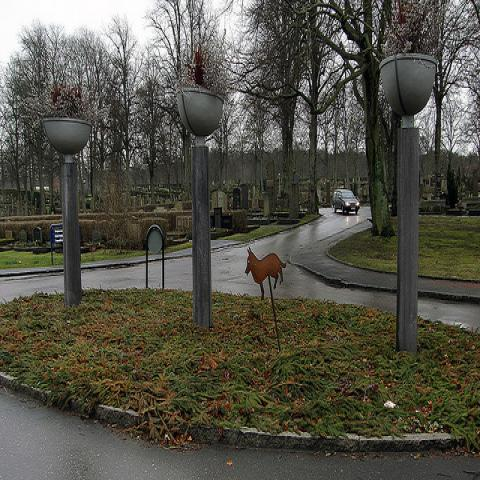car: (331, 188, 360, 214)
